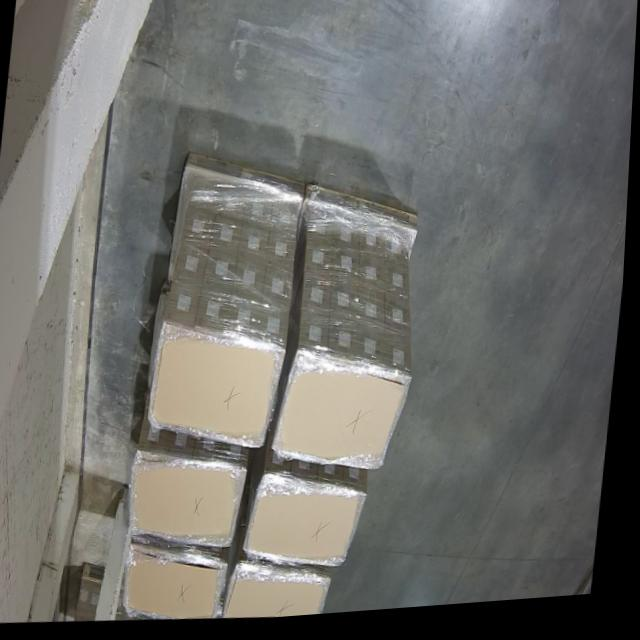pallet: (151, 324, 288, 456), (276, 356, 414, 478), (248, 477, 369, 573), (134, 457, 252, 551), (126, 546, 229, 622), (226, 565, 340, 622)
